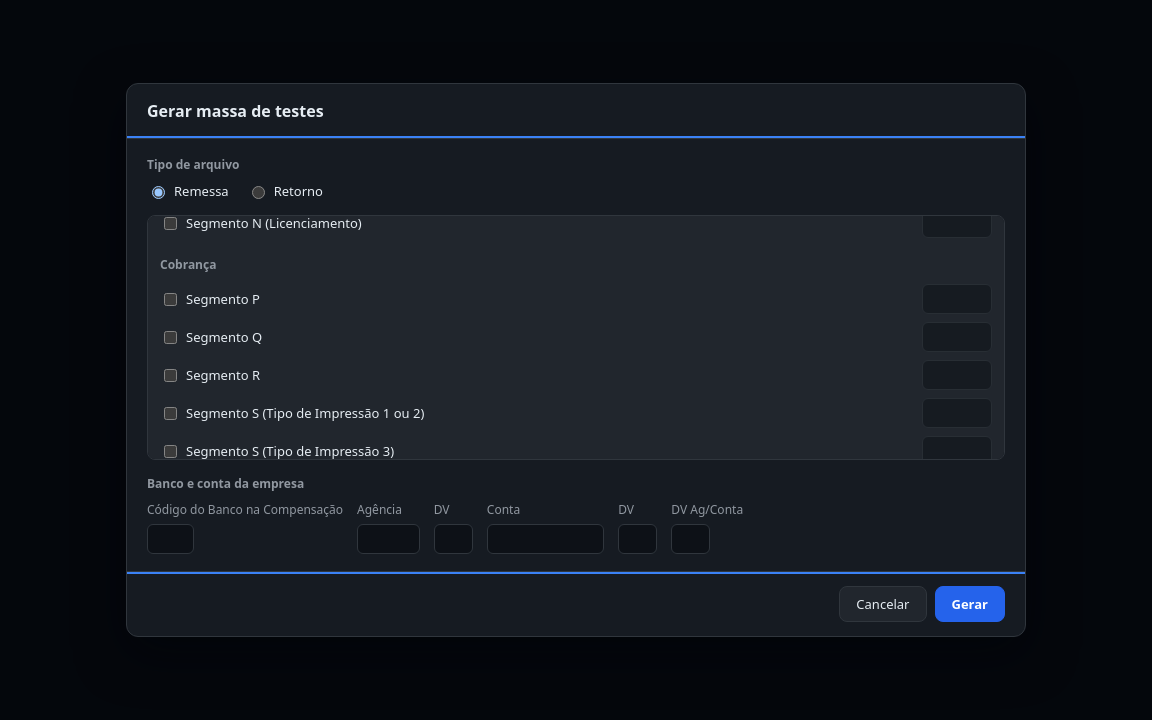
Scenario: GeneratorDialog (US3): dependentes › Q = 8 leva P a 8 e o campo de P mostra 8 (US3-5)
(page scrolled)
Click the checkbox labelled "Segmento Q": [170, 337] box [164, 331, 177, 344]
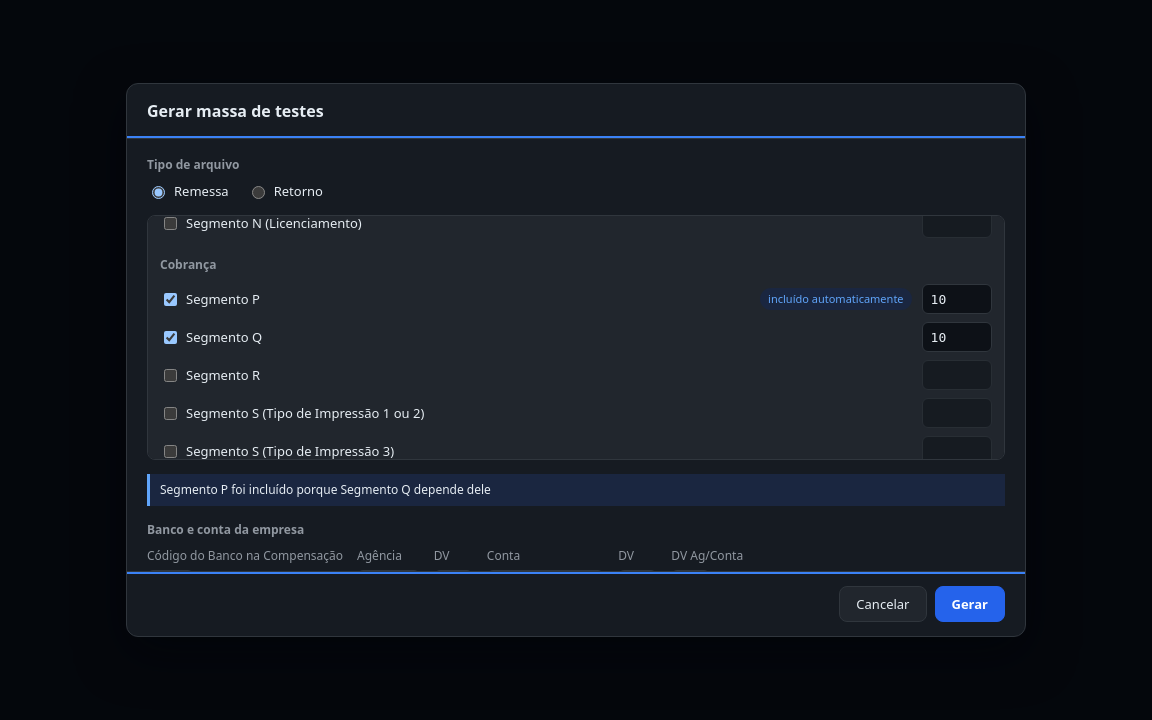
Replace the text in the field with test id "generator-qty-segmento-q-cobranca" with "3": [957, 337] box [922, 322, 992, 352]
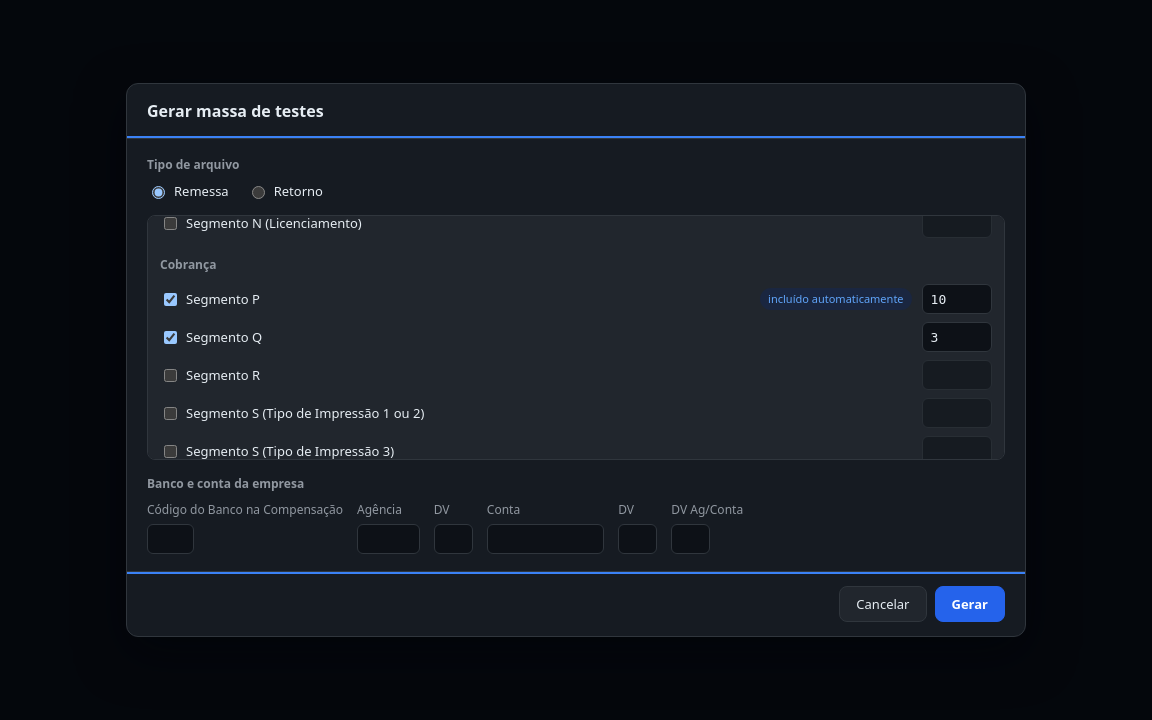
Replace the text in the field with test id "generator-qty-segmento-p-cobranca" with "5": [957, 299] box [922, 284, 992, 314]
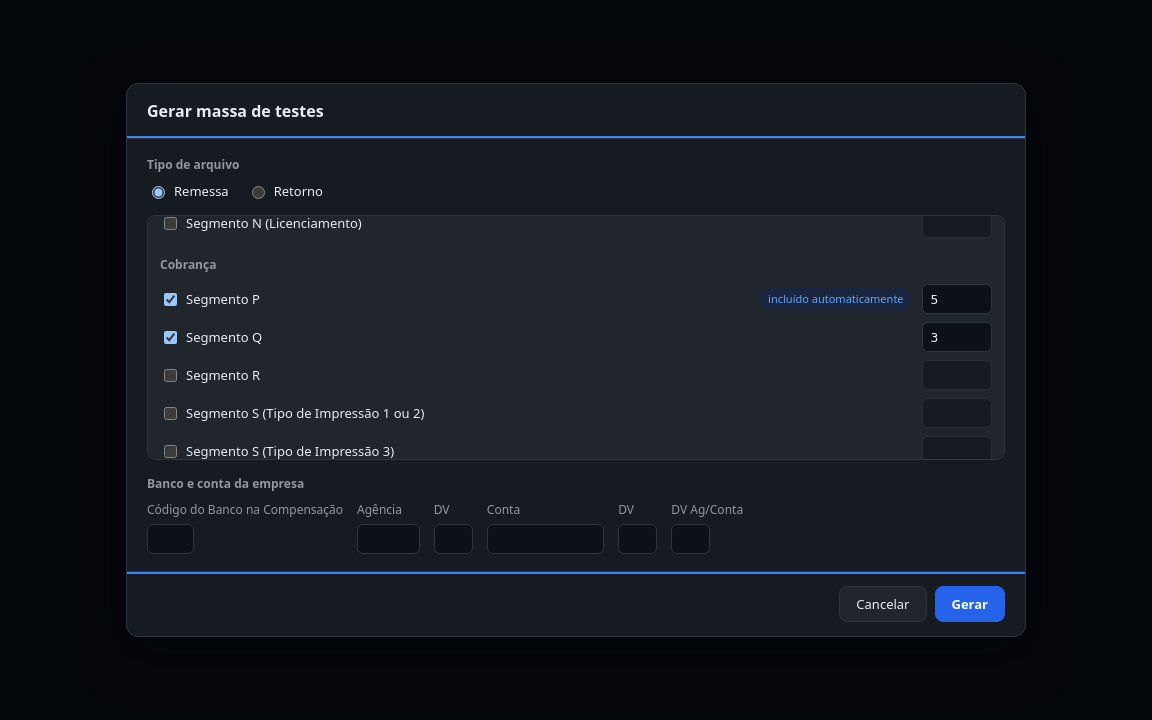
Replace the text in the field with test id "generator-qty-segmento-q-cobranca" with "8": [957, 337] box [922, 322, 992, 352]
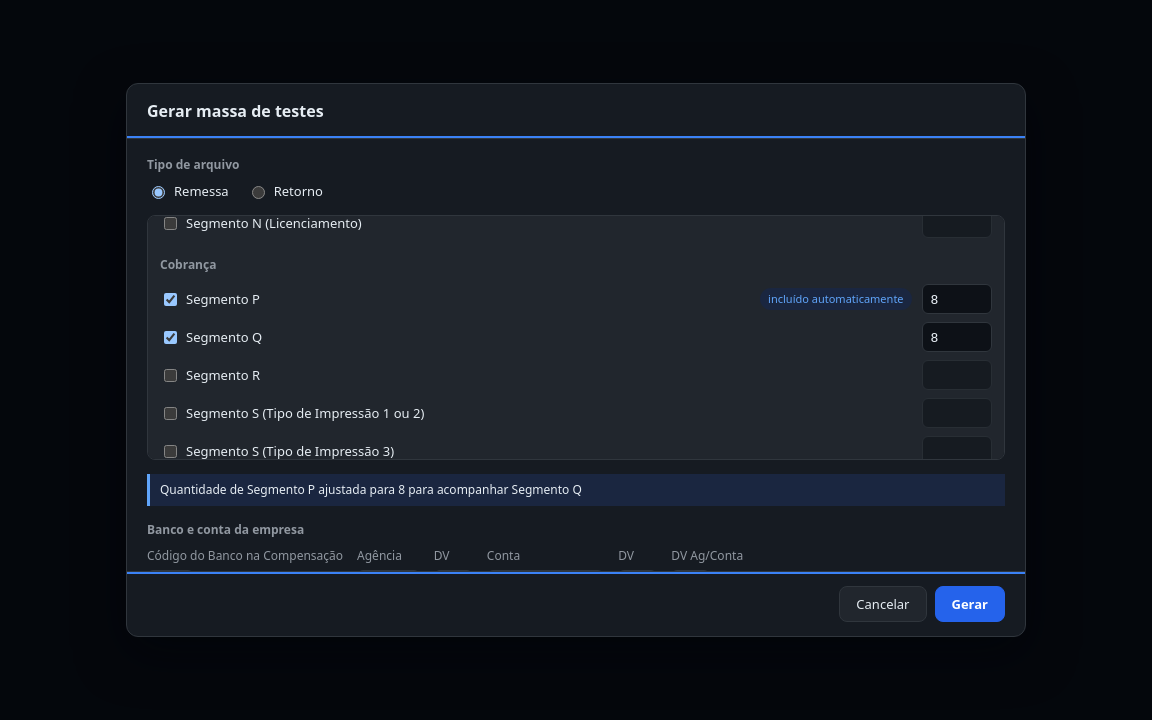
Result: the field with test id "generator-qty-segmento-p-cobranca" holds "8" at [922, 284, 992, 314]
Result: the message with test id "generator-notices" reads "Quantidade de Segmento P ajustada para 8 para acompanhar Segmento Q" at [160, 481, 582, 498]
